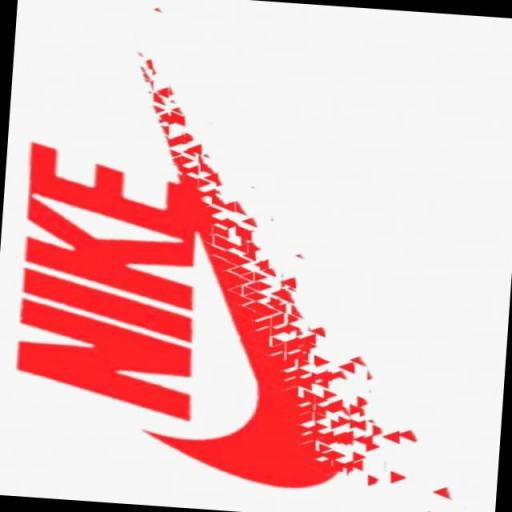Nike: (100, 48, 378, 492), (6, 139, 212, 420)
